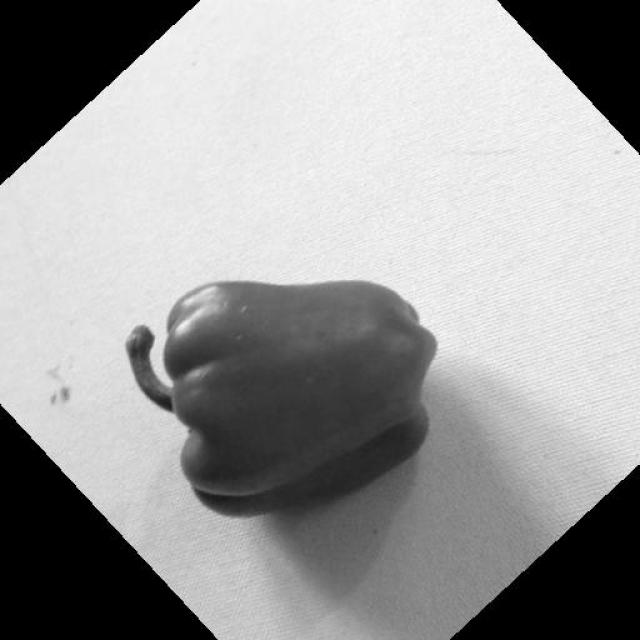Fresh_Capsicum: (145, 244, 446, 516)
